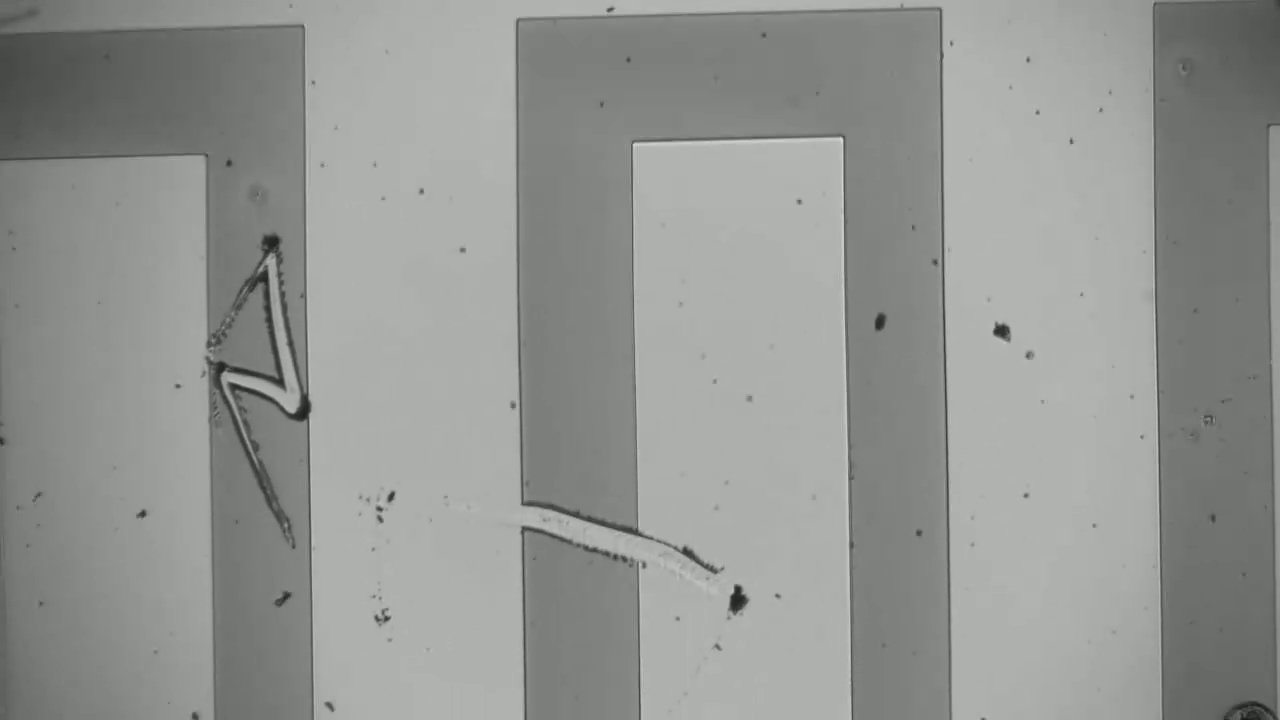Short_circuit: (502, 484, 671, 589), (179, 346, 327, 435)
